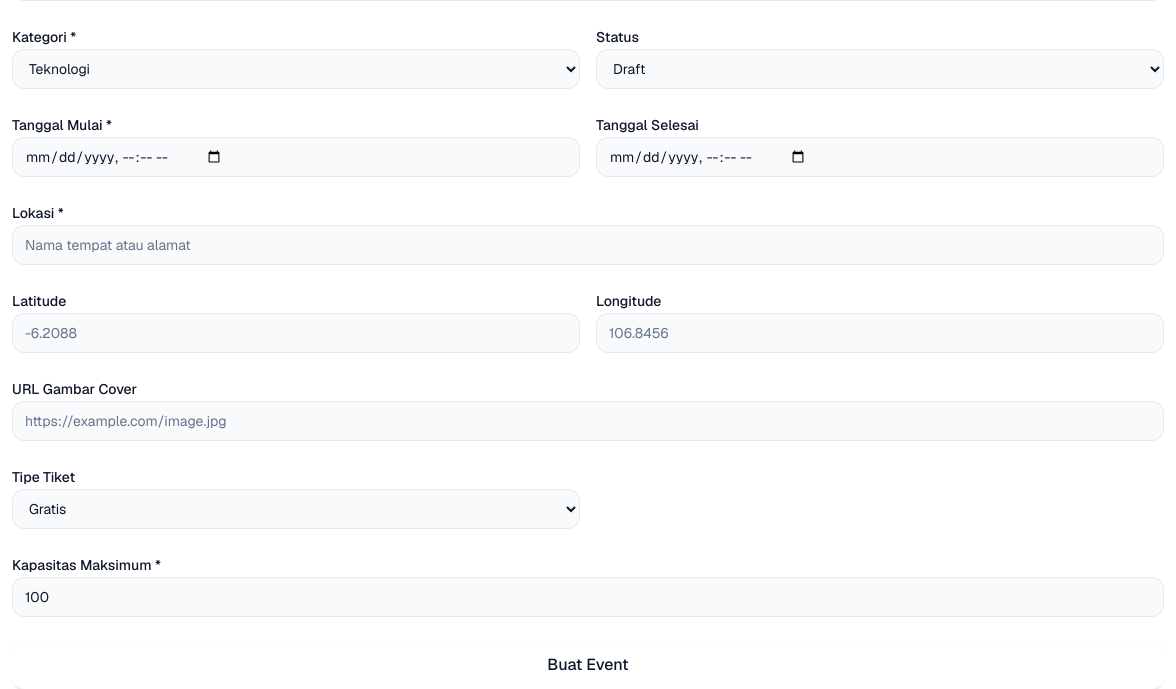
Test case: EventForm › shows price field when ticket type is PAID
(page scrolled)
Select "Berbayar" in the dropdown with id "ticketType" at {"x": 296, "y": 509}, box [12,489,580,529]
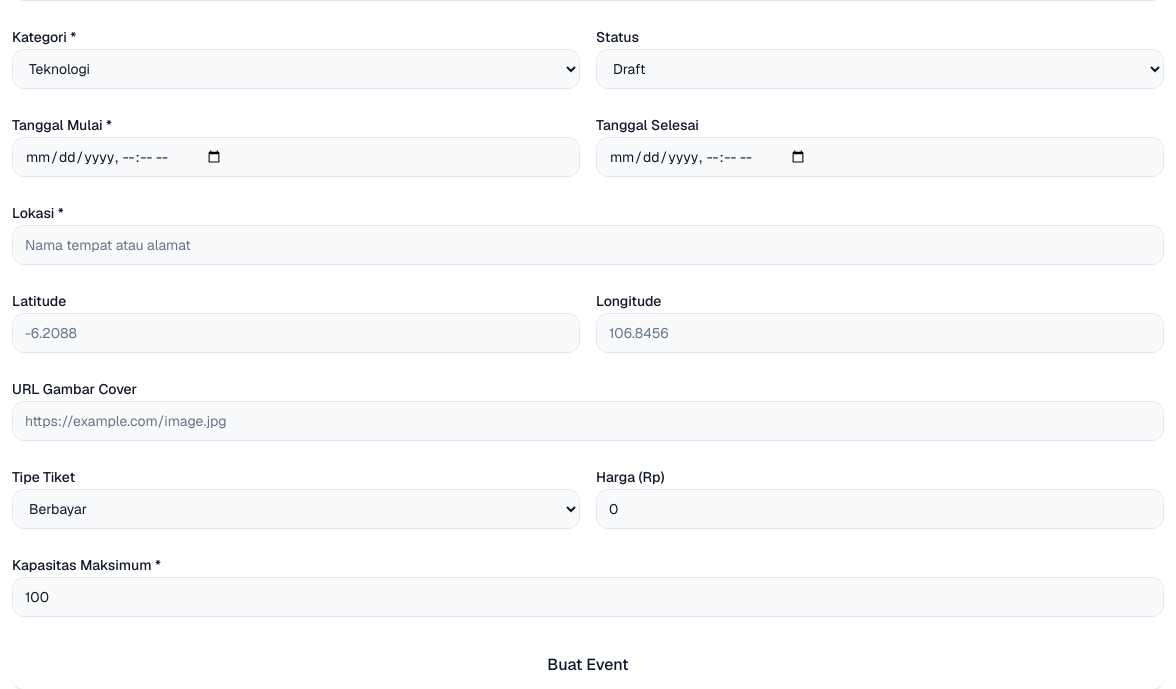
expect the text "Harga (Rp)" is shown: met, box [596,468,665,486]
